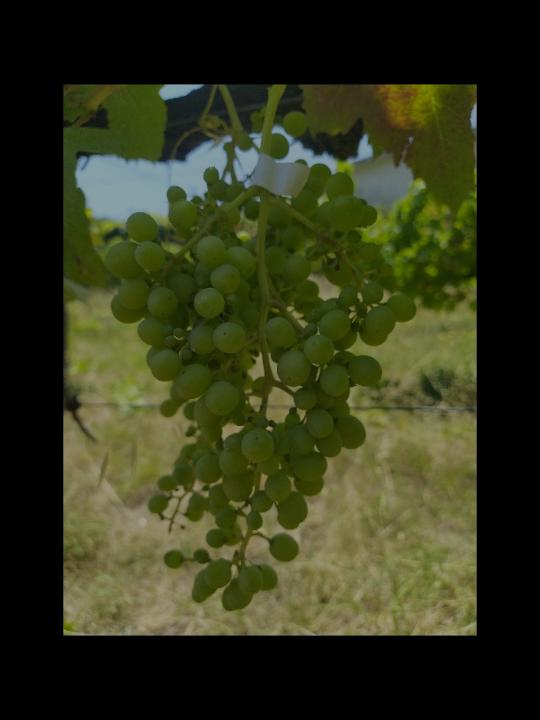grape: (106, 133, 424, 614)
